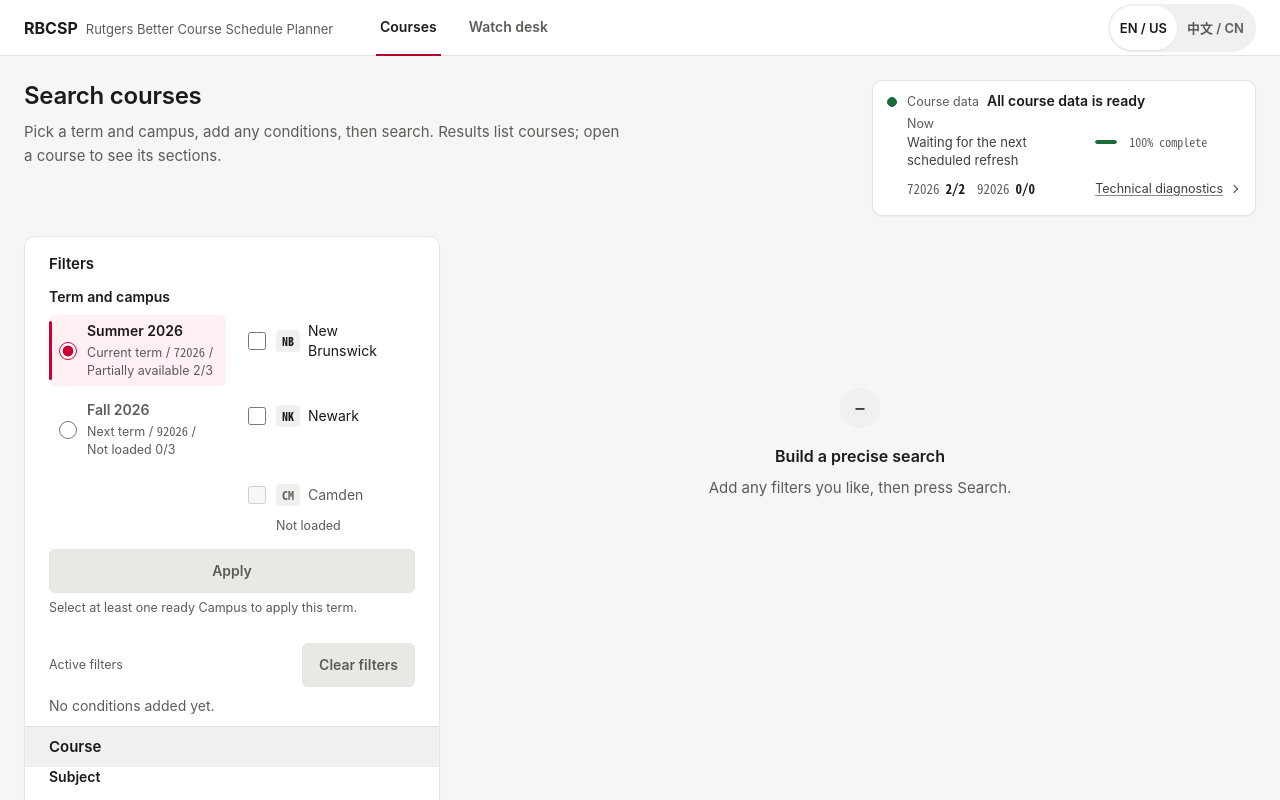
Test case: P7.2 responsive product shell › keeps the submitted Course result state while visiting Watch and returning
This screenshot has width=1280, height=800.
Expected: the text "All course data is ready" is shown, left=987, top=91, right=1145, bottom=111
Click the checkbox labelled "NB New Brunswick".
click(257, 341)  # box left=248, top=332, right=266, bottom=350
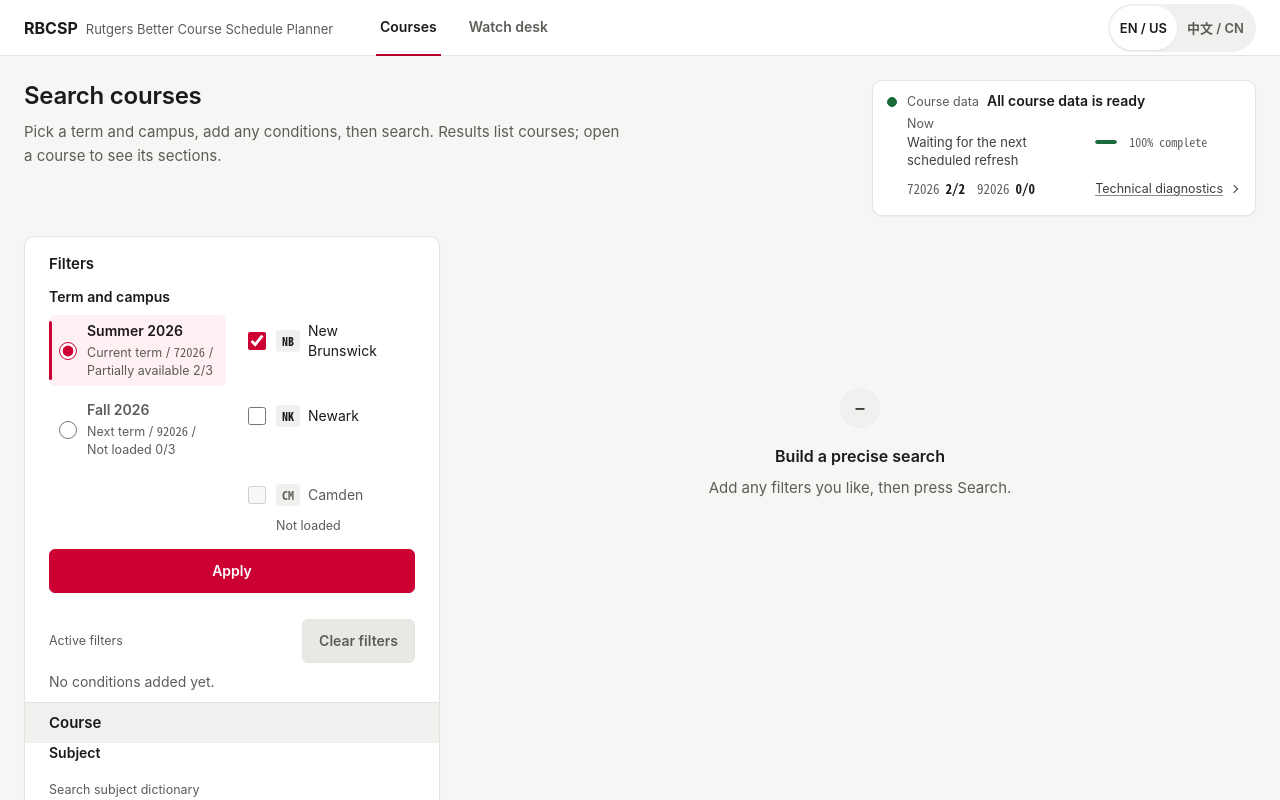
Click the button "Apply".
click(232, 571)  # box left=49, top=549, right=415, bottom=593
(page scrolled)
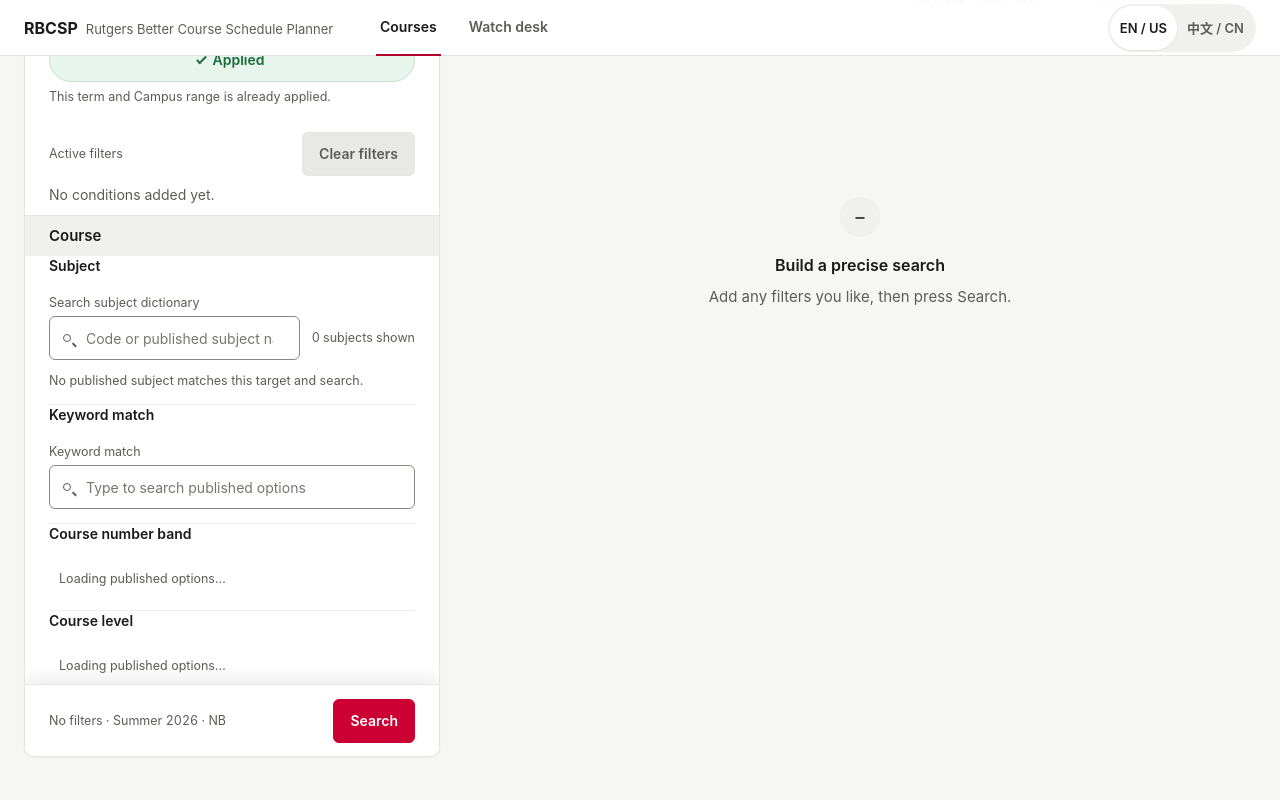
Click the button "Search".
click(374, 720)  # box left=334, top=698, right=415, bottom=742
(page scrolled)
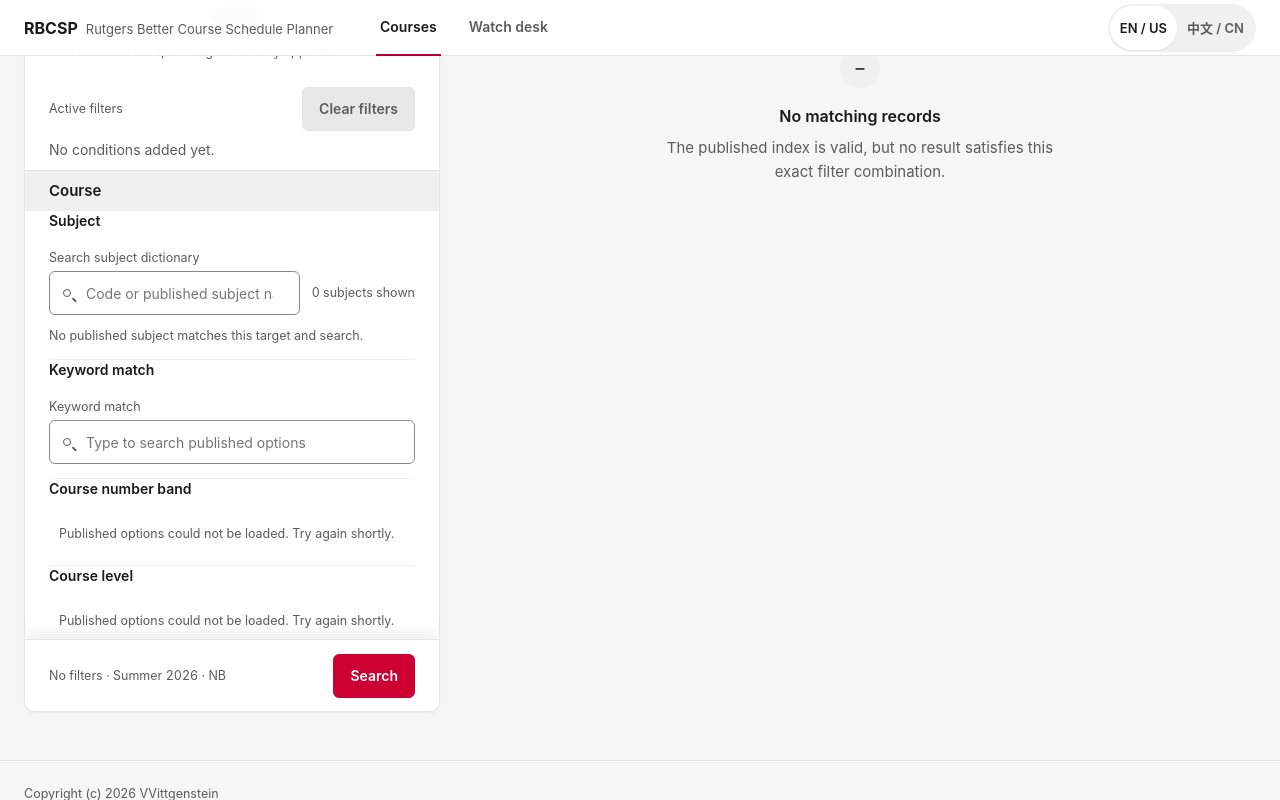
Now the heading "No matching records" is shown, box left=779, top=104, right=941, bottom=128
Click the link "Watch desk".
click(508, 26)  # box left=469, top=18, right=548, bottom=35
(page scrolled)
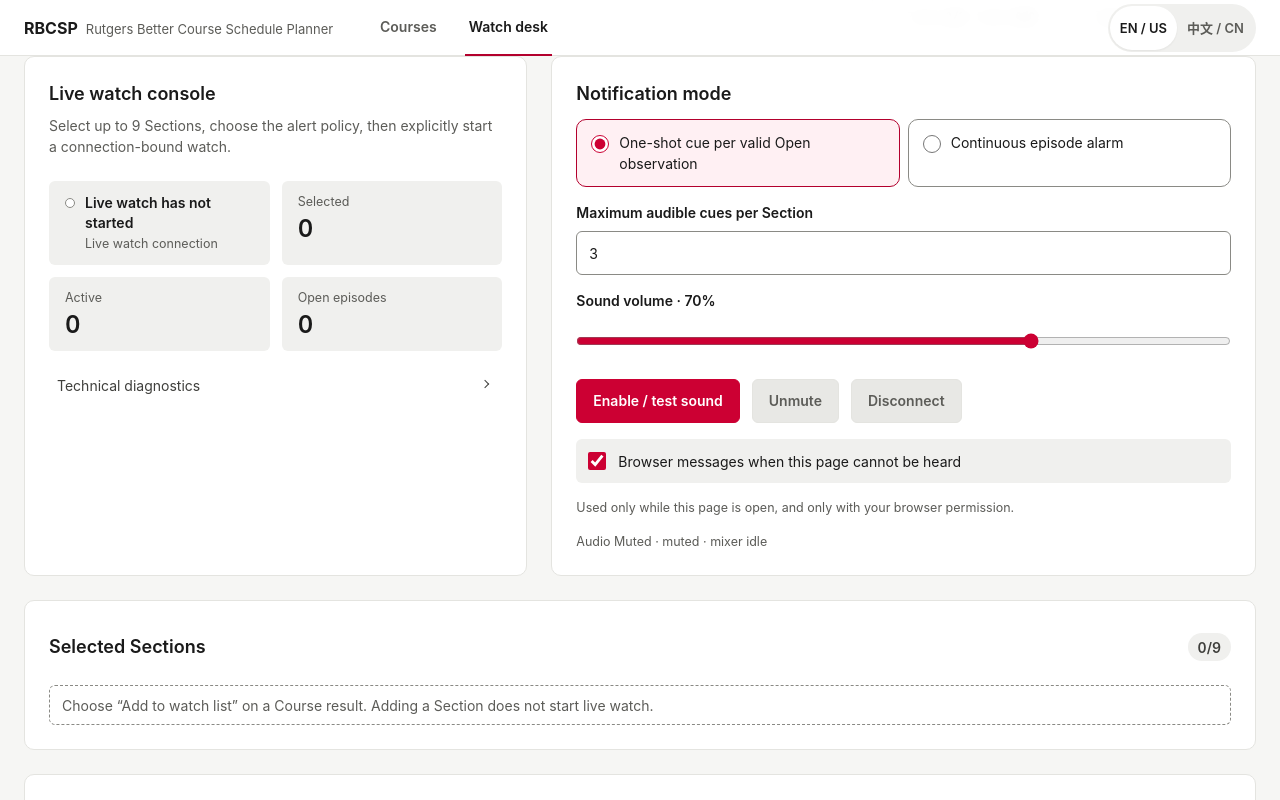
Now the heading "No matching records" is gone
Click the link "Courses".
click(408, 26)  # box left=380, top=18, right=437, bottom=35
(page scrolled)
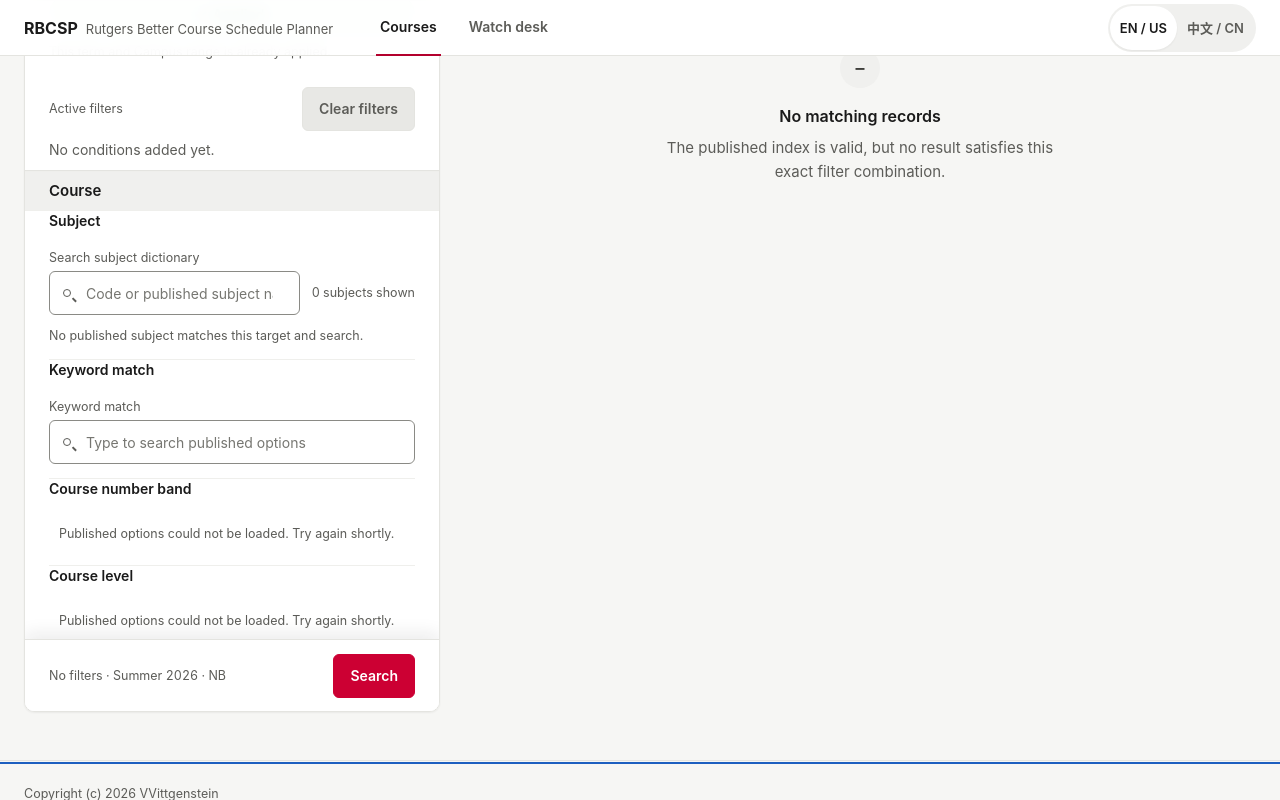
Now the heading "No matching records" is shown, box left=779, top=104, right=941, bottom=128
